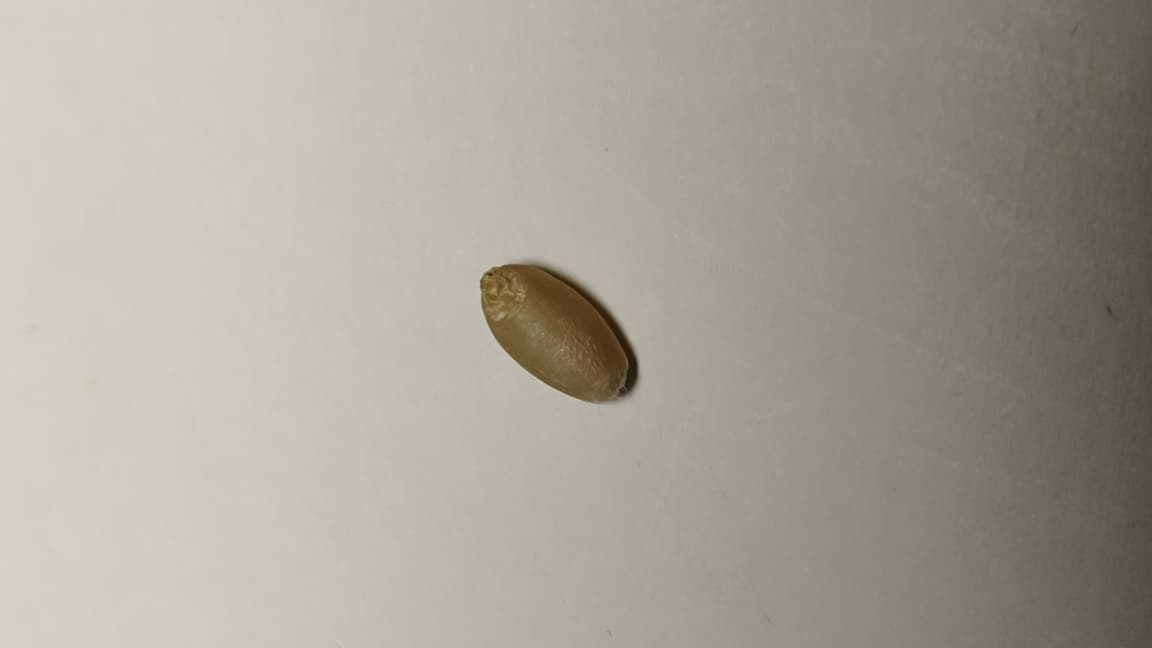healthy: (481, 265, 628, 401)
